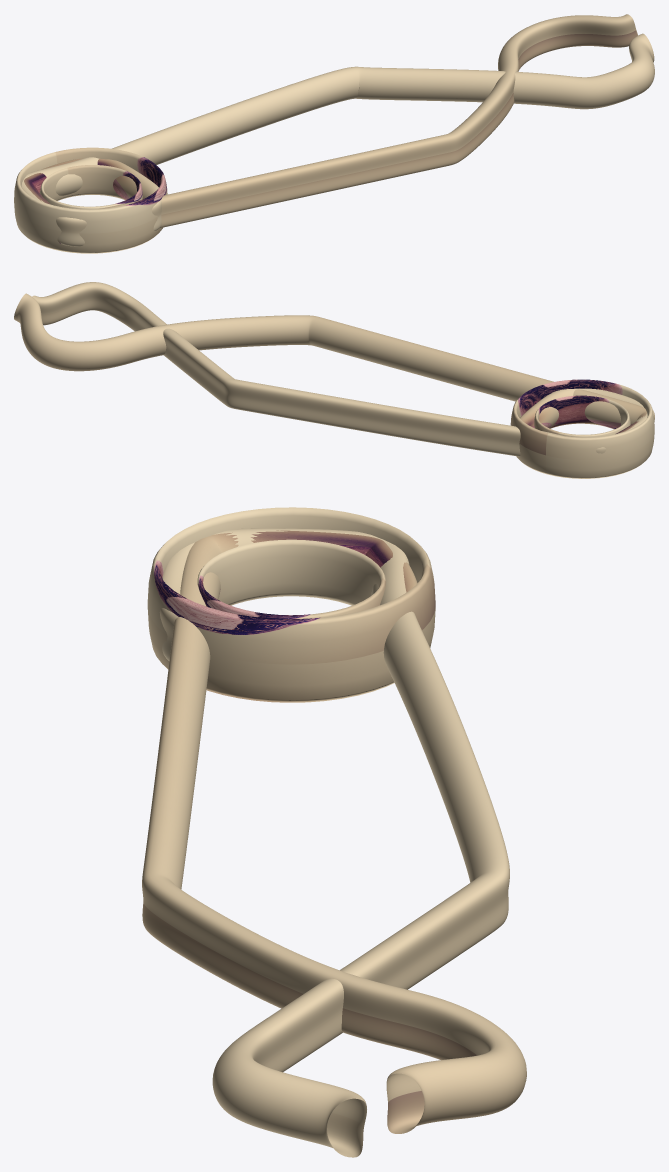
The model's file is tong2_Nov16.glb.
3 views of the same model, one above another, from view 1: azimuth 30°, elevation 25°; view 2: azimuth 150°, elevation 25°; view 3: azimuth 270°, elevation 25° (orthographic). The views are drawn at different scales.
Parts seen in each view (by area): view 1: NurbsPath.002, Torus, Torus.001; view 2: NurbsPath.002, Torus, Torus.001; view 3: NurbsPath.002, Torus, Torus.001.
Boxes of the visible parts, box(x1,y1,x2,y2) form: NurbsPath.002: box(21, 14, 654, 246); Torus: box(14, 147, 167, 253); Torus.001: box(39, 165, 142, 209); NurbsPath.002: box(14, 282, 654, 456); Torus: box(510, 379, 654, 478); Torus.001: box(534, 395, 630, 437); NurbsPath.002: box(142, 528, 526, 1157); Torus: box(147, 507, 435, 702); Torus.001: box(197, 539, 386, 618).
Bounding box in the file's own units: 0.1556 × 0.0115 × 0.0431.
2 materials, 2 textured.
